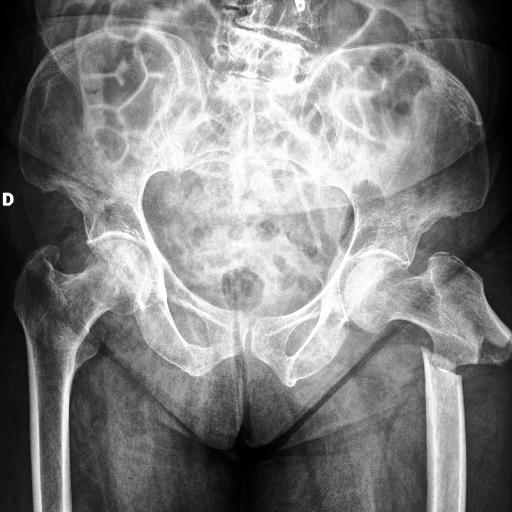normal: (14, 239, 152, 442)
subtrochanteric: (344, 251, 512, 373), (420, 347, 465, 416)
